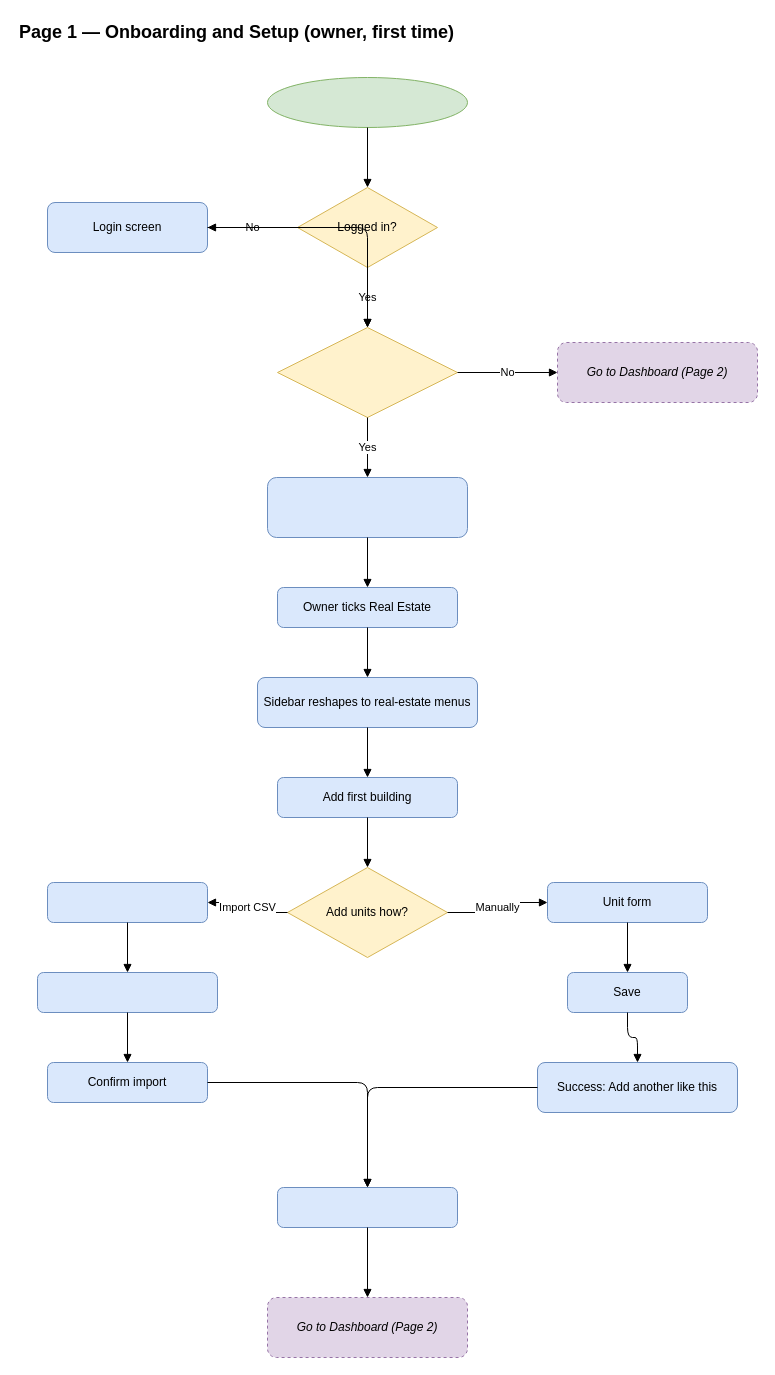
Image size: 775x1375. Some labels were removed from this diagram. Here are the shapes that lost their labels. From the top down, the centre of each, then its label:
the point at 367,102: Open StockLens
the point at 367,372: First time for this company?
the point at 367,507: Item-type gate: What do you track?
the point at 127,902: Upload CSV
the point at 127,992: Fix red rows on screen
the point at 367,1207: Units created
